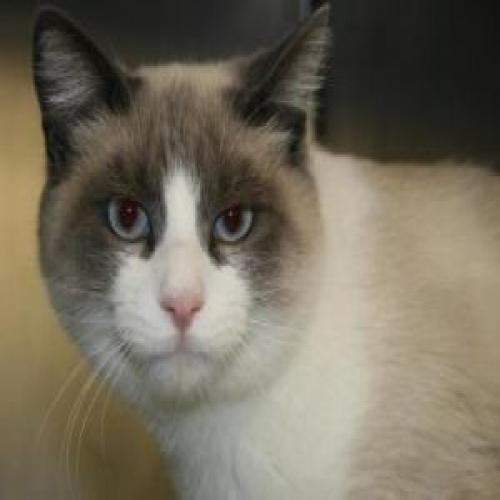ragdoll: (18, 1, 330, 414)
